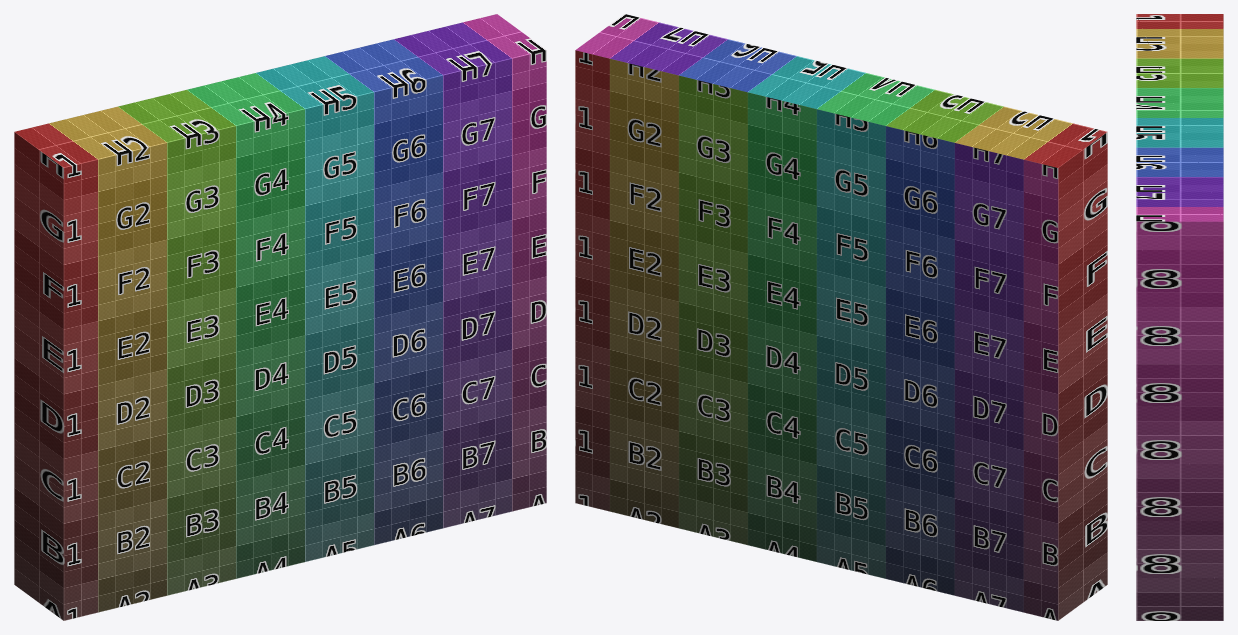
The model's file is wall-canvas.glb.
The picture shows the model from 3 angles, left to right: view 1: azimuth 30°, elevation 25°; view 2: azimuth 150°, elevation 25°; view 3: azimuth 270°, elevation 25°; orthographic projection. The views are drawn at different scales.
Parts seen in each view (by area): view 1: __X_CANVAS__Cube; view 2: __X_CANVAS__Cube; view 3: __X_CANVAS__Cube.
Boxes of the visible parts, x1,y1,x2,y2 form: __X_CANVAS__Cube: (14, 14, 546, 620); __X_CANVAS__Cube: (575, 14, 1107, 620); __X_CANVAS__Cube: (1136, 14, 1223, 620).
Size of the model in its own units: 0.1188 by 0.1064 by 0.0211.
1 material, 1 textured.
